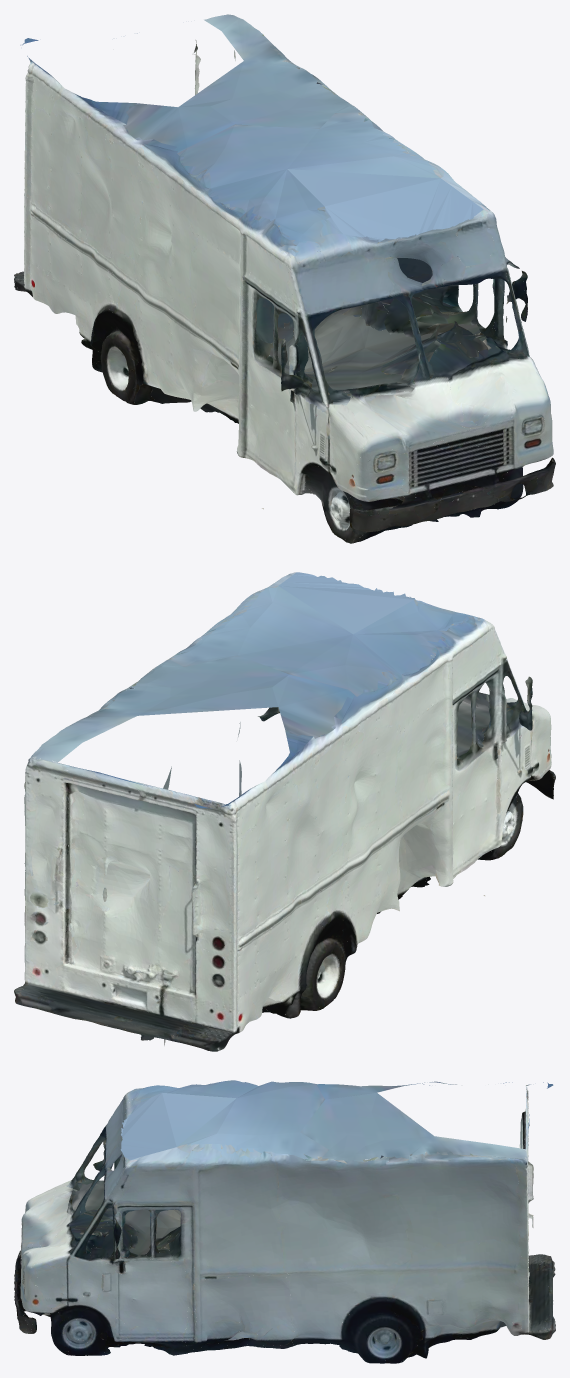
Rendered from step-van.glb.
The picture shows the model from 3 angles, top to bottom: view 1: azimuth 30°, elevation 25°; view 2: azimuth 150°, elevation 25°; view 3: azimuth 270°, elevation 25°; orthographic projection. The views are drawn at different scales.
Parts seen in each view (by area): view 1: Object_4, Object_5; view 2: Object_4, Object_5; view 3: Object_4, Object_5.
Part boxes in pixels (x1=…): Object_4: x1=14, y1=14, x2=555, y2=543; Object_5: x1=14, y1=14, x2=554, y2=543; Object_4: x1=16, y1=572, x2=555, y2=1049; Object_5: x1=14, y1=572, x2=555, y2=1051; Object_4: x1=14, y1=1080, x2=555, y2=1363; Object_5: x1=14, y1=1085, x2=555, y2=1363.
Bounding box in the file's own units: 3.05 × 3.28 × 7.38.
Materials: 1 (1 with a texture image).
